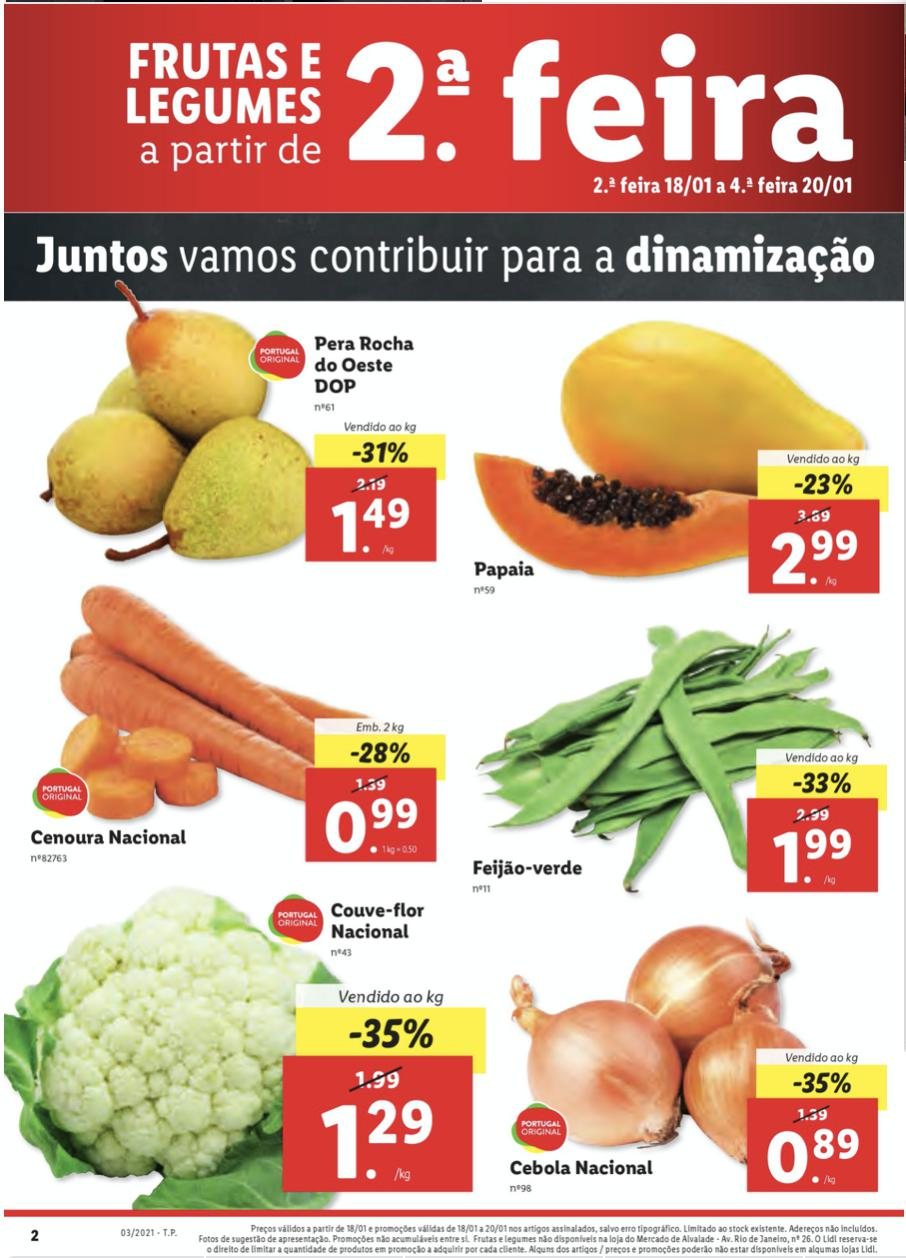name: (312, 331, 423, 398), (329, 898, 428, 944), (28, 825, 198, 851), (507, 1156, 663, 1183), (471, 856, 590, 884), (471, 558, 542, 580)
price: (318, 1095, 438, 1186), (318, 790, 429, 859), (759, 1123, 860, 1187), (767, 528, 867, 590), (771, 825, 863, 889), (328, 495, 415, 561)
product: (467, 281, 878, 619), (40, 881, 471, 1187), (18, 584, 454, 873), (460, 625, 890, 903), (29, 297, 457, 573), (499, 914, 893, 1205)
promotion: (338, 1011, 443, 1053), (785, 767, 860, 800), (784, 1067, 857, 1100), (343, 434, 409, 470), (346, 737, 415, 769), (790, 470, 863, 497)
